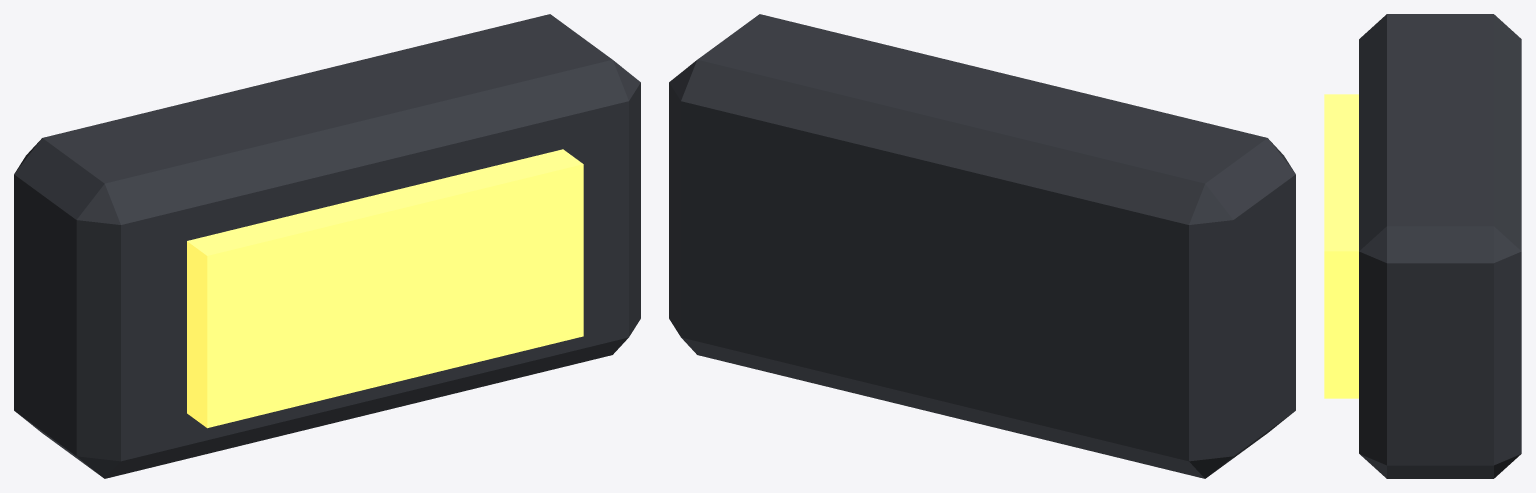
File: aisle_light.glb
The picture shows the model from 3 angles, left to right: view 1: azimuth 30°, elevation 25°; view 2: azimuth 150°, elevation 25°; view 3: azimuth 270°, elevation 25°; orthographic projection. The views are drawn at different scales.
Visible parts, largest first — view 1: aisle_light; view 2: aisle_light; view 3: aisle_light.
Part boxes in pixels (x1,y1,x2,y2): aisle_light: (14, 14, 640, 478); aisle_light: (669, 14, 1295, 478); aisle_light: (1324, 14, 1521, 478).
Size of the model in its own units: 0.24 by 0.12 by 0.085.
